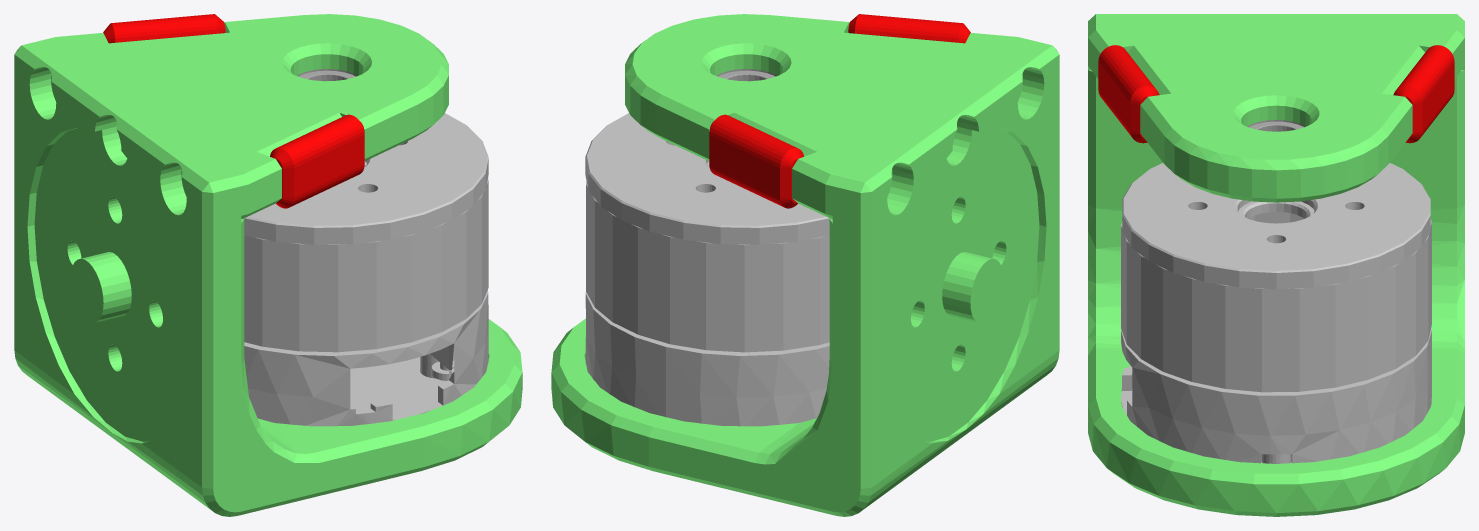
File: wrist_link.dae
3 views of the same model, side by side, from view 1: azimuth 30°, elevation 25°; view 2: azimuth 150°, elevation 25°; view 3: azimuth 270°, elevation 25° (orthographic). The views are drawn at different scales.
Parts seen in each view (by area): view 1: node5, node1, node0, node4, node3; view 2: node5, node1, node0, node3, node4; view 3: node1, node5, node0, node3, node4, node2.
Boxes of the visible parts, box(x1,y1,x2,y2) form: node5: box(14, 38, 522, 516); node1: box(244, 113, 488, 426); node0: box(50, 14, 448, 218); node4: box(270, 114, 364, 208); node3: box(103, 14, 225, 43); node5: box(551, 38, 1059, 516); node1: box(585, 113, 829, 426); node0: box(625, 14, 1023, 218); node3: box(709, 114, 803, 208); node4: box(848, 14, 970, 43); node1: box(1121, 163, 1431, 463); node5: box(1088, 14, 1464, 516); node0: box(1088, 27, 1464, 202); node3: box(1393, 45, 1454, 143); node4: box(1098, 45, 1159, 143); node2: box(1247, 120, 1305, 131).
Size of the model in its own units: 0.058 by 0.048 by 0.047.
